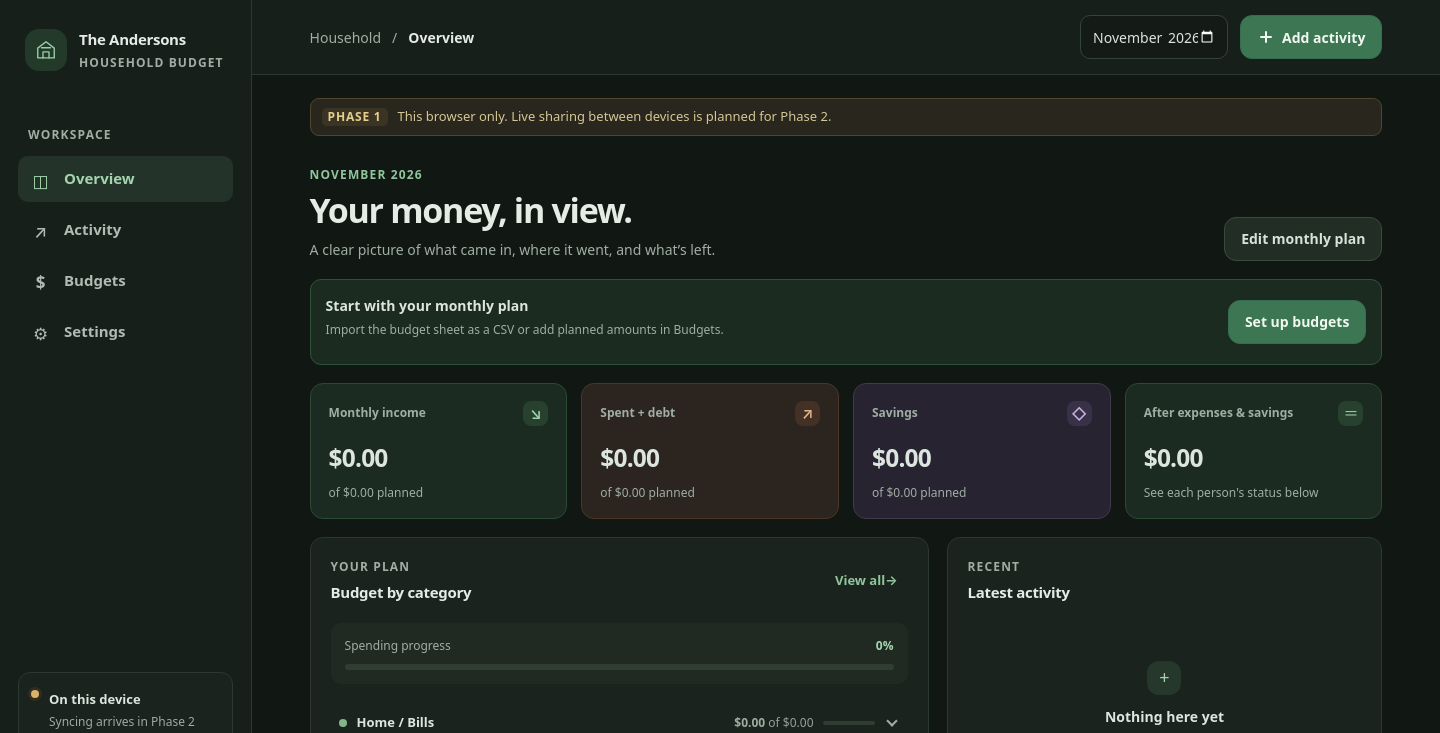
Test: budget app phase 1 › groups all backup and export actions together in Settings
This screenshot has width=1440, height=733.
Click the button "⚙ Settings": (126, 332) [18,308,233,354]
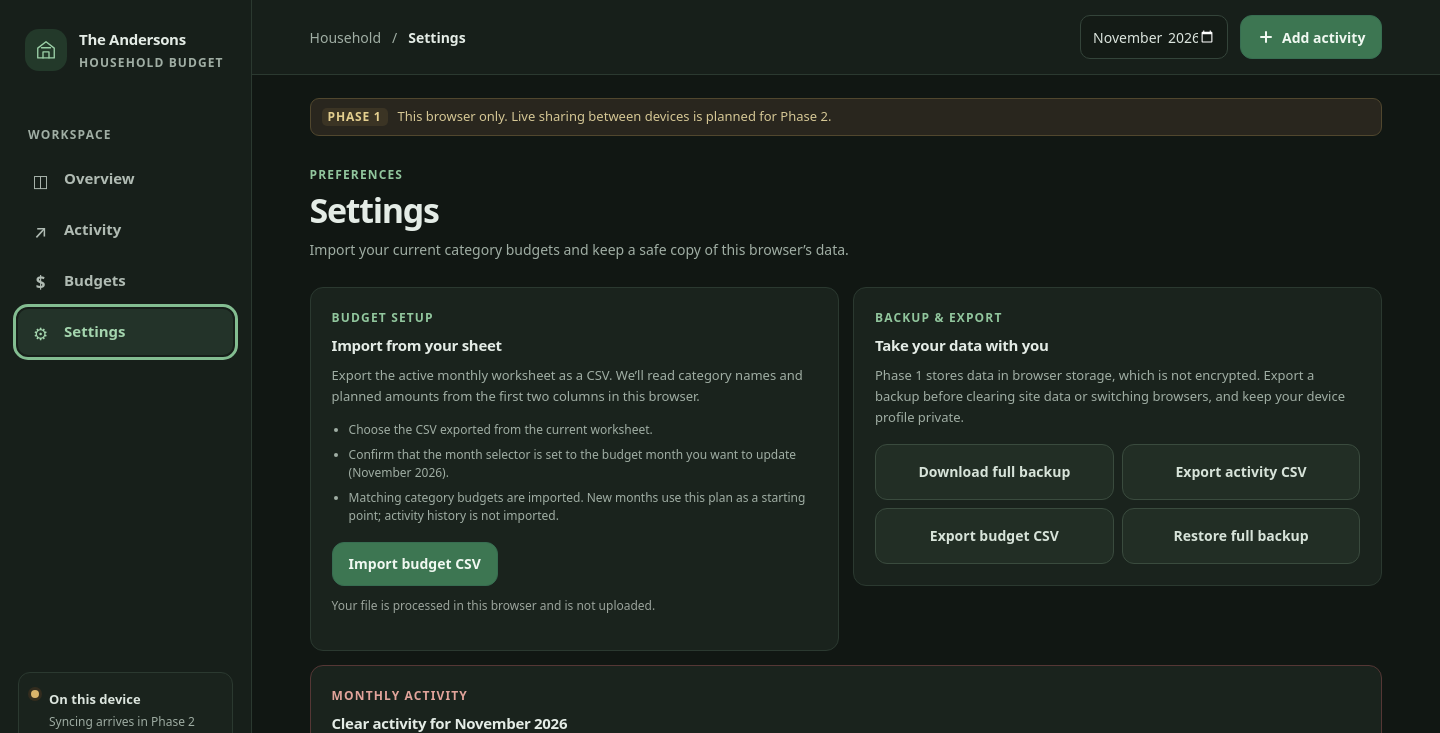
Check: the button "Download full backup" is shown, box [875,444,1114,500]
Check: the button "Export activity CSV" is shown, box [1122,444,1360,500]
Check: the button "Export budget CSV" is shown, box [875,508,1114,564]
